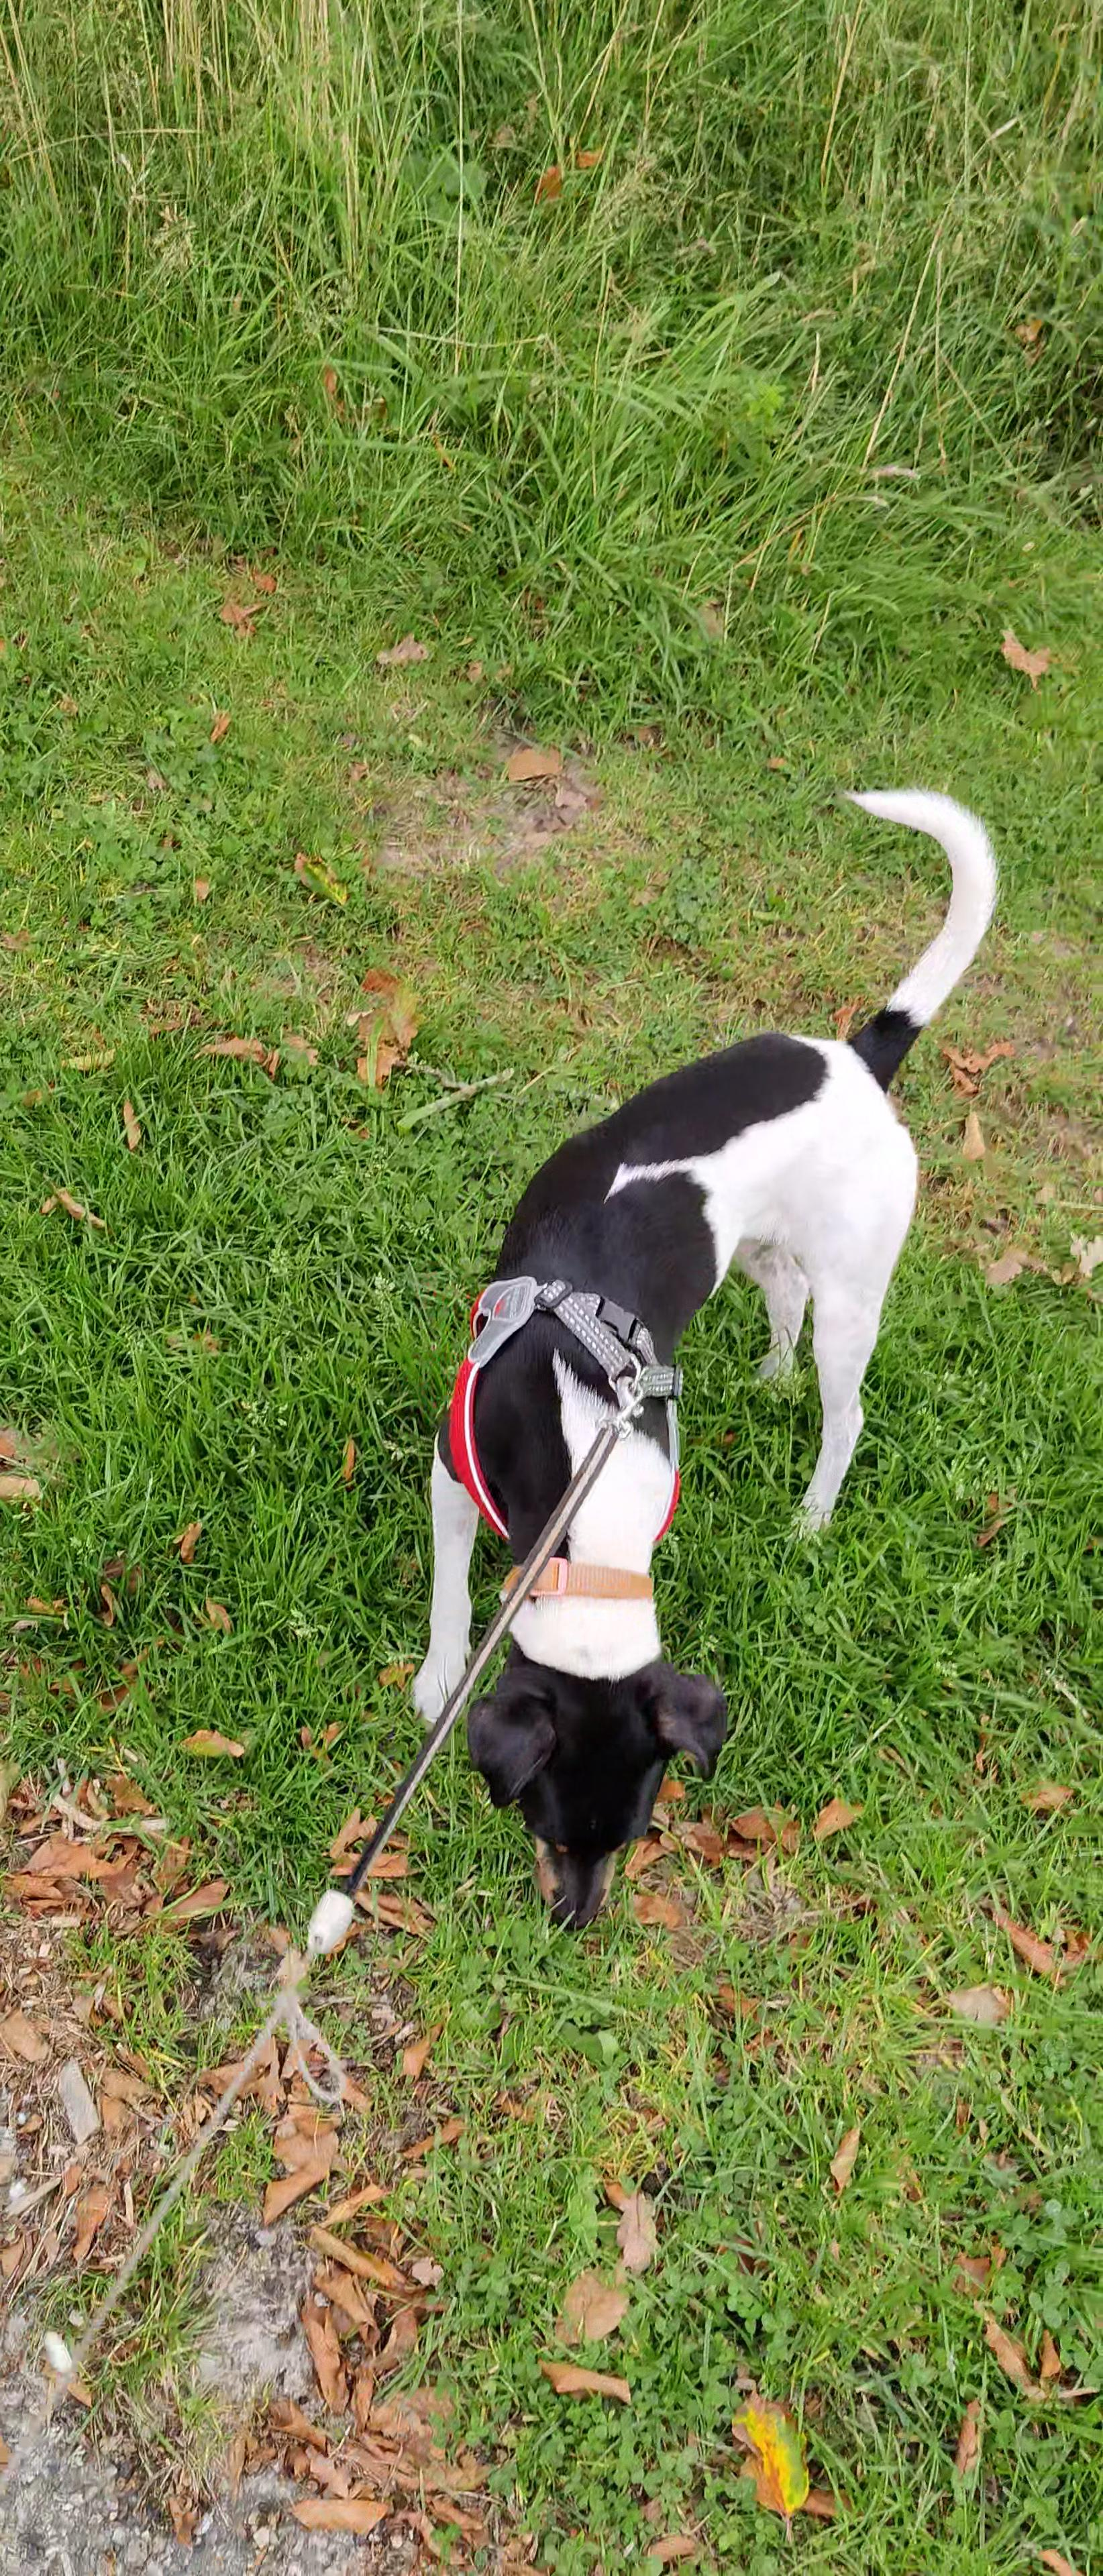Dog: (399, 787, 1004, 1939)
